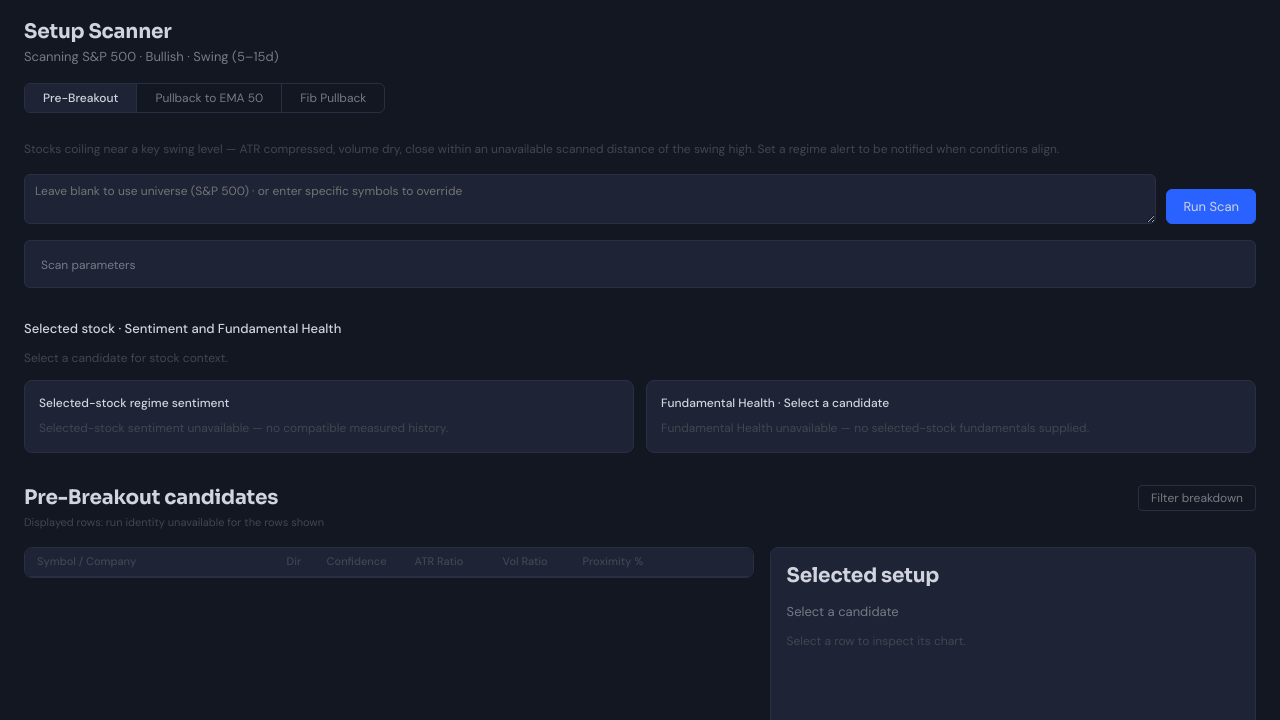
Test: Step 4 Pre-Breakout — pullback sub-mode › at 0% posts nothing and shows the message
Click the button "Pullback to EMA 50".
click(209, 98)  # box [136,84,281,112]
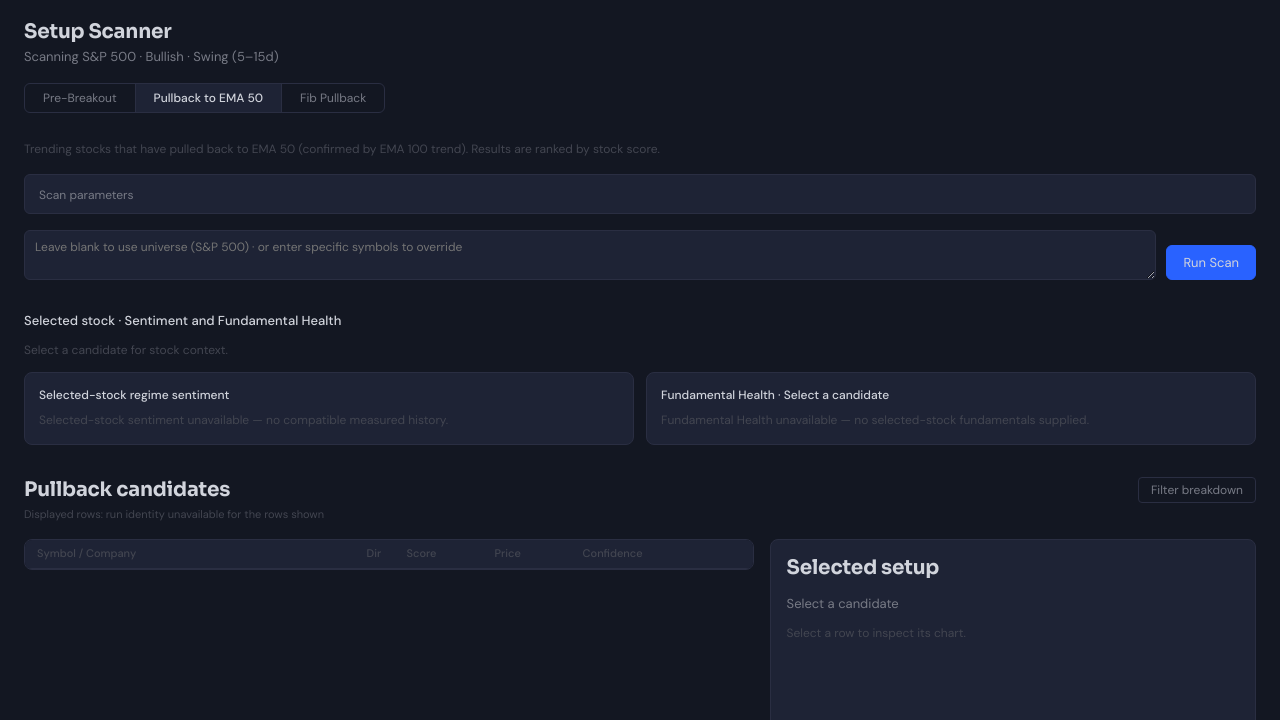
Replace the text in the text box with placeholder "Leave blank to use universe" with "AAPL" at (590, 255), box [24,230,1156,280]
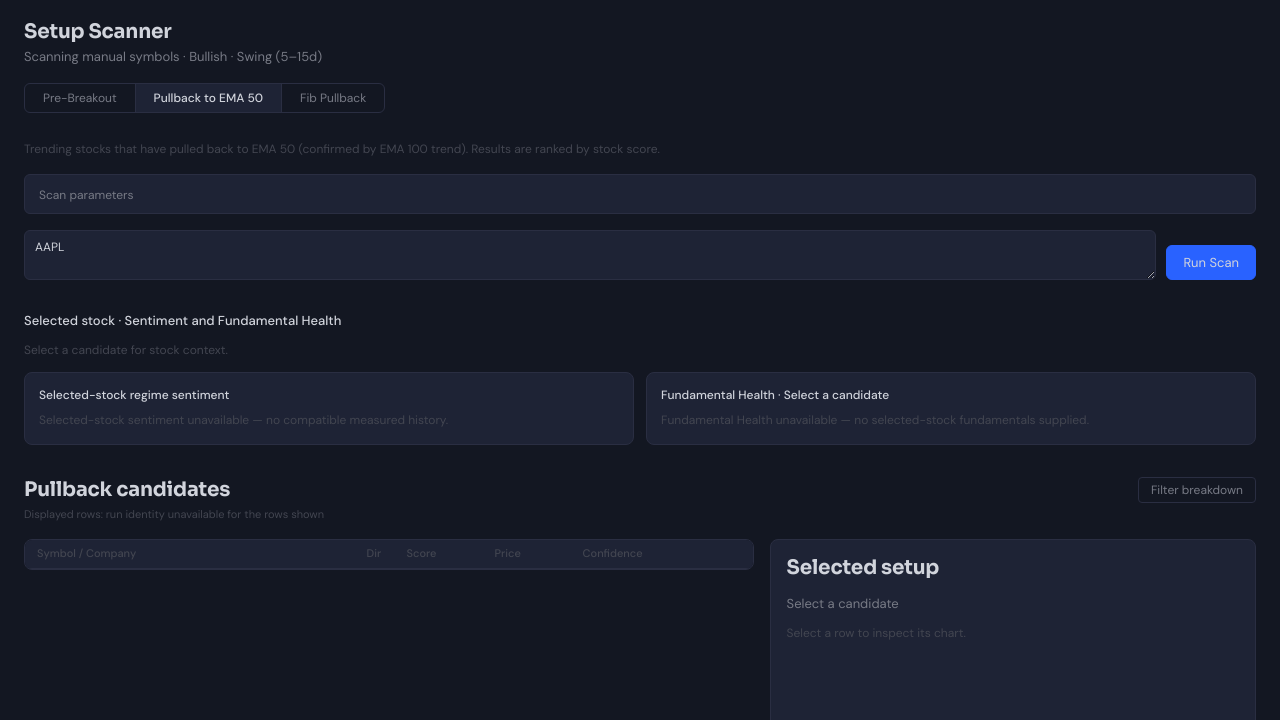
Click the button "Run Scan".
click(1211, 262)  # box [1166,245,1256,280]
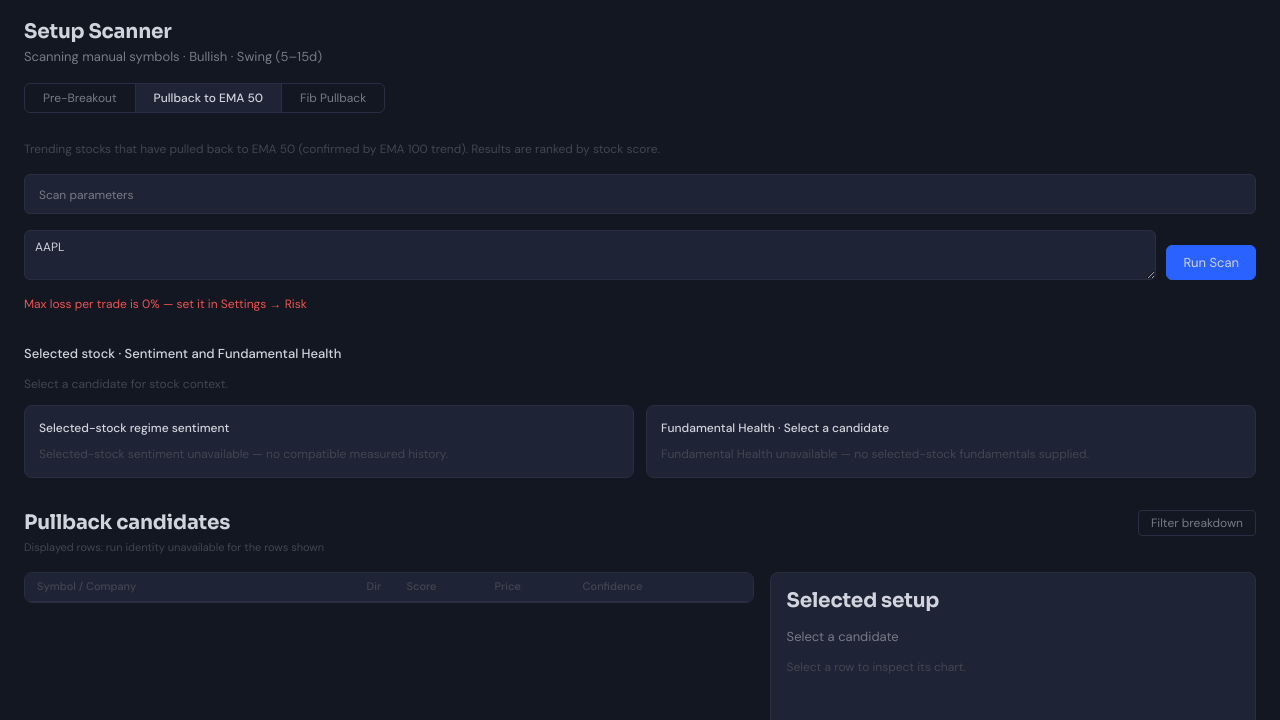
Expected: the text "Max loss per trade is 0% — set it in Settings → Risk" is shown, [24,296,307,312]
